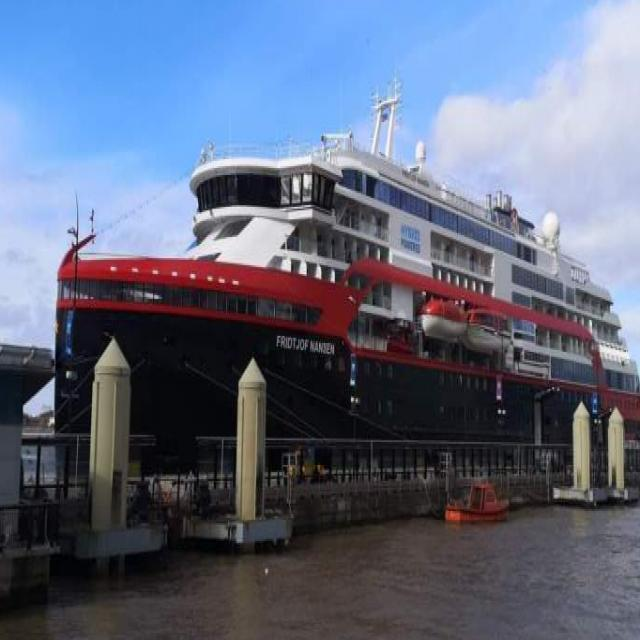cruises: (36, 59, 640, 453)
